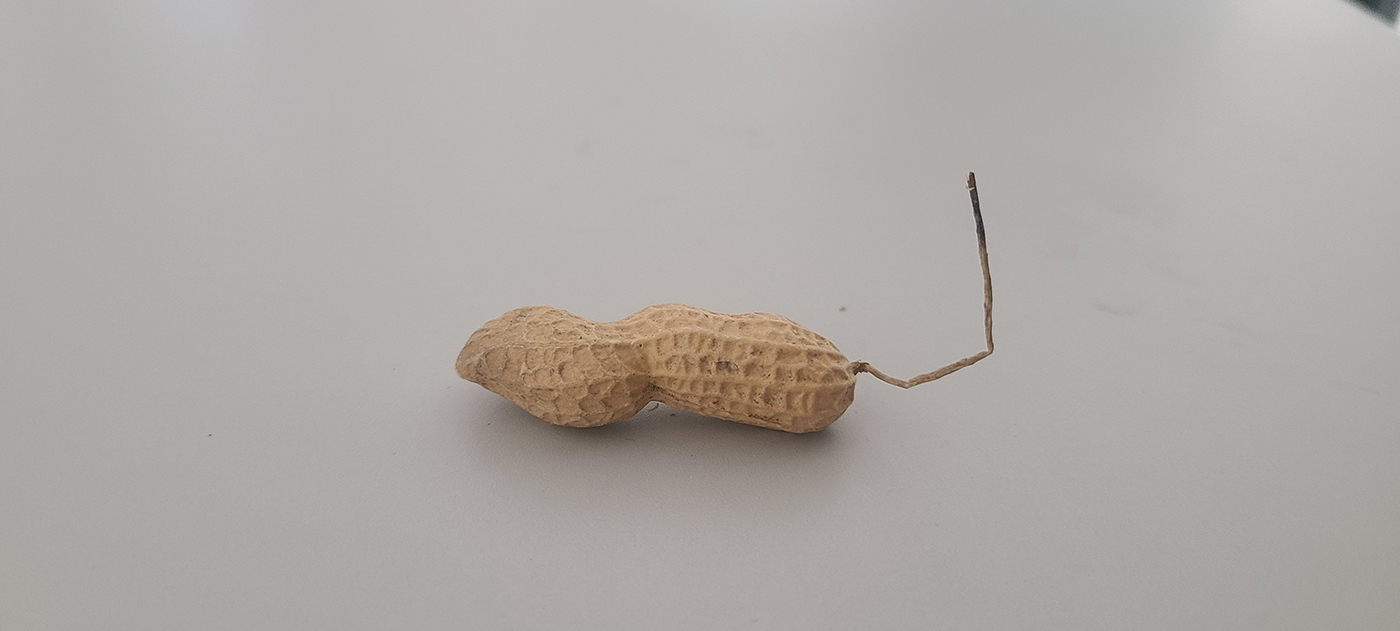h: (454, 302, 857, 436)
